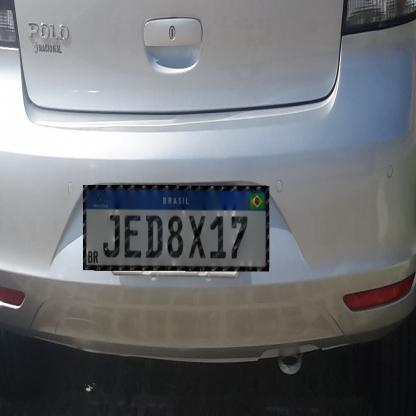PlacaM: (83, 185, 269, 271)
